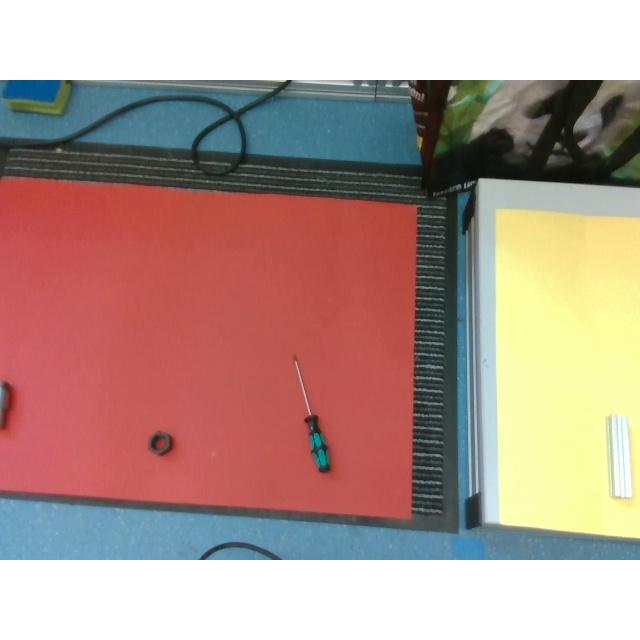Axis2: (0, 380, 12, 426)
F20_20_G: (606, 412, 634, 496)
M20: (148, 430, 172, 456)
Screwdriver: (290, 352, 330, 472)
